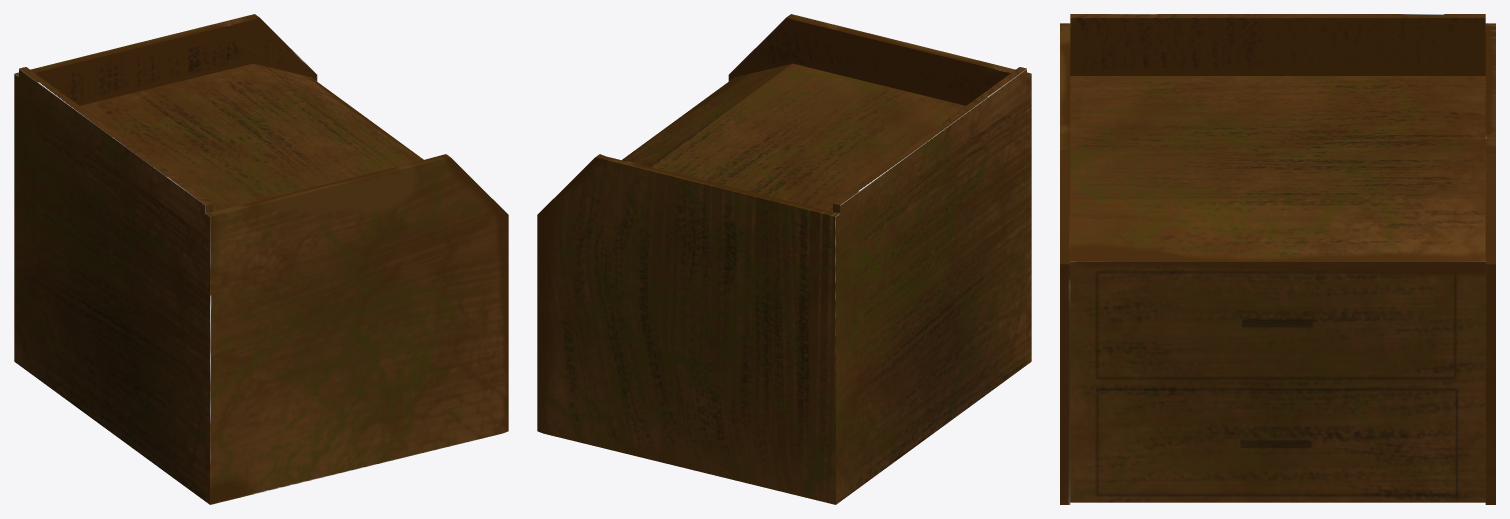
File: mueble.fbx
The picture shows the model from 3 angles, left to right: view 1: azimuth 30°, elevation 25°; view 2: azimuth 150°, elevation 25°; view 3: azimuth 270°, elevation 25°; orthographic projection. The views are drawn at different scales.
Parts seen in each view (by area): view 1: Cube; view 2: Cube; view 3: Cube.
Part boxes in pixels (x1=…): Cube: x1=14, y1=14, x2=508, y2=504; Cube: x1=537, y1=14, x2=1031, y2=504; Cube: x1=1060, y1=14, x2=1495, y2=504.
Bounding box in the file's own units: 315 × 299 × 358.
